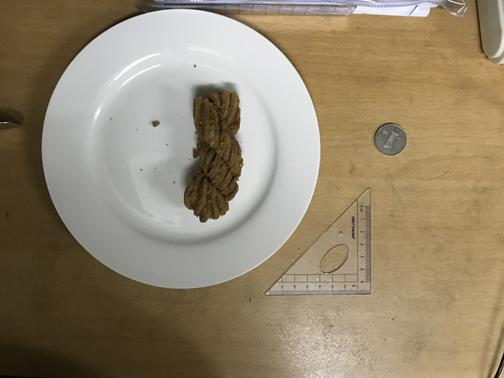coin: (374, 121, 407, 157)
fired_dough_twist: (185, 90, 244, 220)
